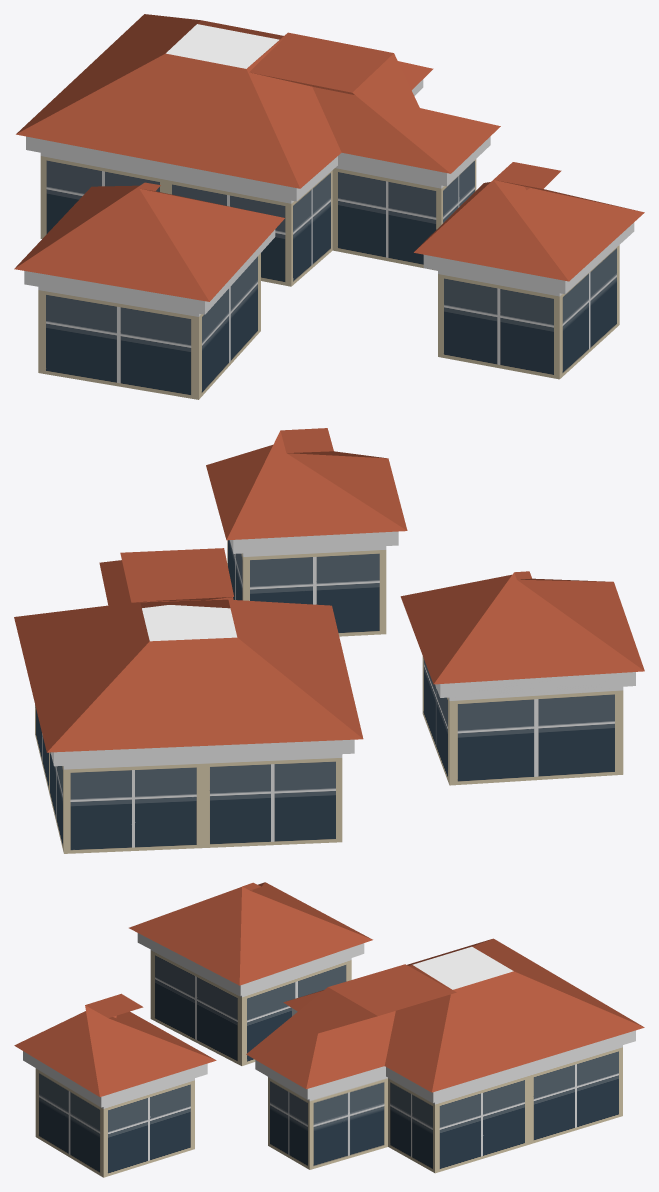
File: bocaprins.glb
3 renders of one model, top to bottom at view 1: azimuth 30°, elevation 25°; view 2: azimuth 150°, elevation 25°; view 3: azimuth 270°, elevation 25°, orthographic. The views are drawn at different scales.
Parts seen in each view (by area): view 1: bocaprins_lod0; view 2: bocaprins_lod0; view 3: bocaprins_lod0.
Part boxes in pixels (x1,y1,x2,y2): bocaprins_lod0: [14, 14, 644, 399]; bocaprins_lod0: [14, 428, 644, 853]; bocaprins_lod0: [14, 882, 644, 1177].
Size of what is drawn, in the model's own units: 19.49 by 5.8 by 24.16.
Materials: 3 (1 with a texture image).
